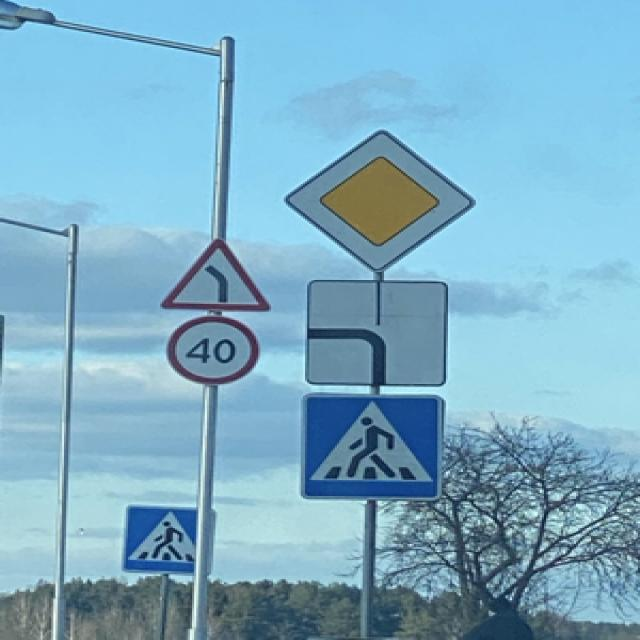crosswalk: (296, 390, 444, 501), (118, 502, 212, 573)
speedlimit: (162, 315, 258, 384)
